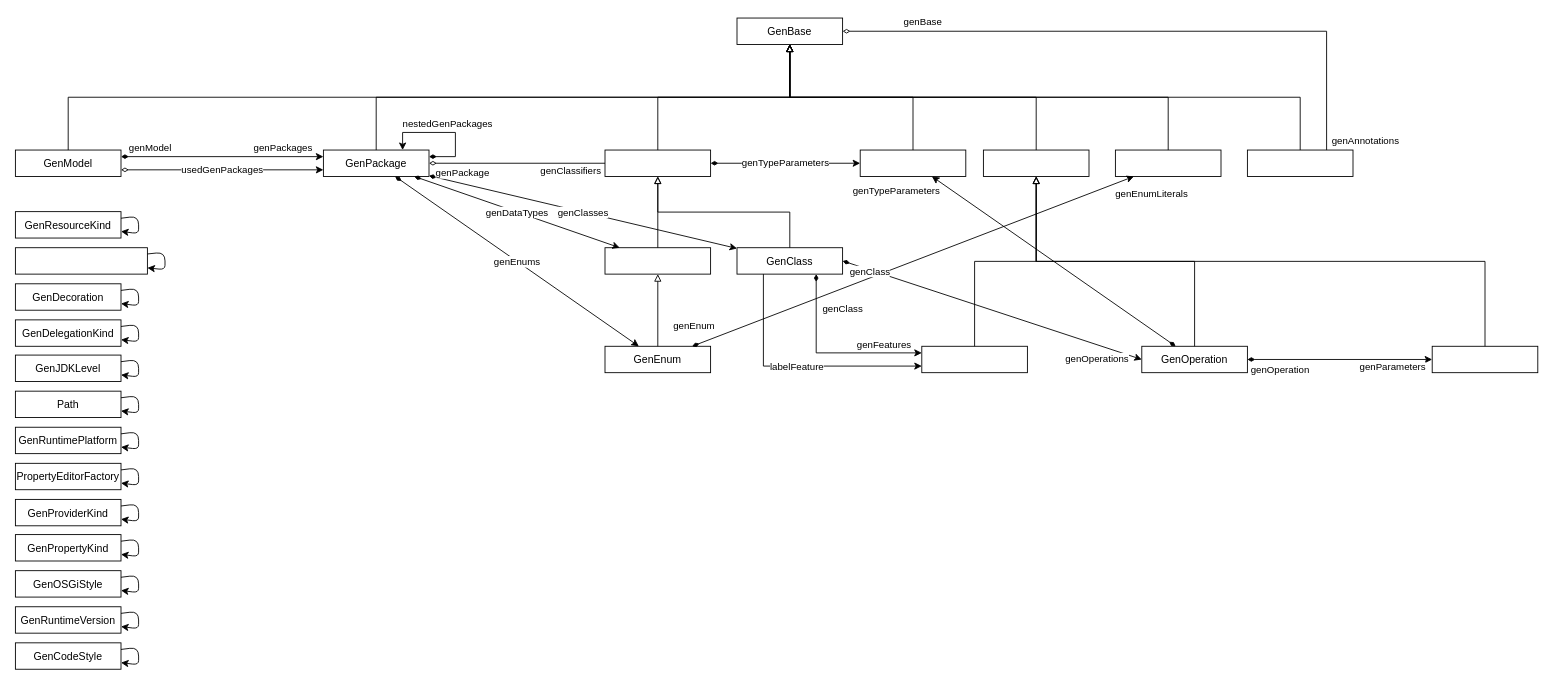
This 1553x687 diagram has some shape labels left out. Each missing label, with the centre of its shape:
"GenAnnotation" goes at (x=1300, y=162).
"GenClassifier" goes at (x=657, y=162).
"GenDataType" goes at (x=657, y=260).
"GenEclipsePlatformVersion" goes at (x=81, y=260).
"GenEnumLiteral" goes at (x=1168, y=162).
"GenFeature" goes at (x=974, y=359).
"GenParameter" goes at (x=1484, y=359).
"GenTypedElement" goes at (x=1036, y=162).
"GenTypeParameter" goes at (x=912, y=162).
